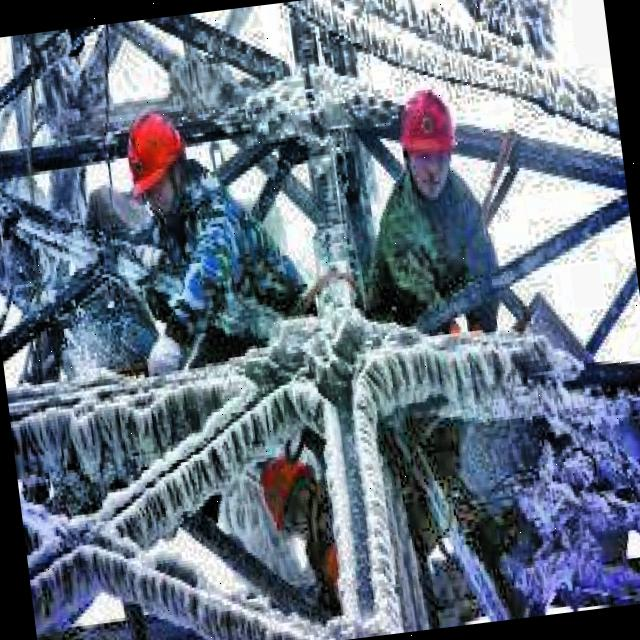helmet: (116, 95, 200, 222), (392, 80, 462, 196)
